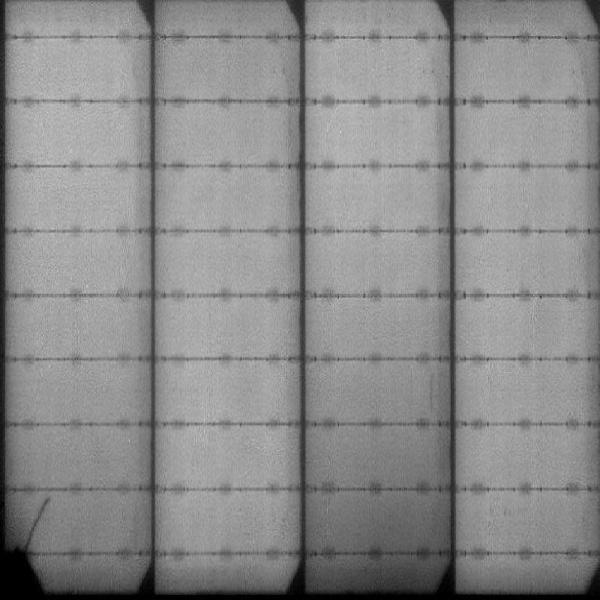broken: (1, 496, 52, 594)
